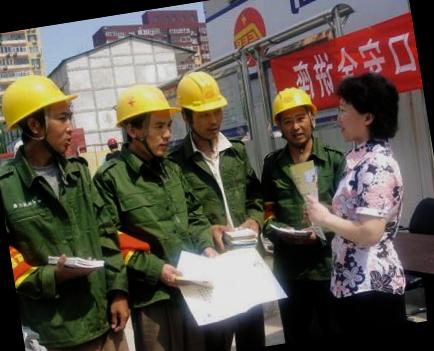no_helmet: (326, 60, 414, 150)
